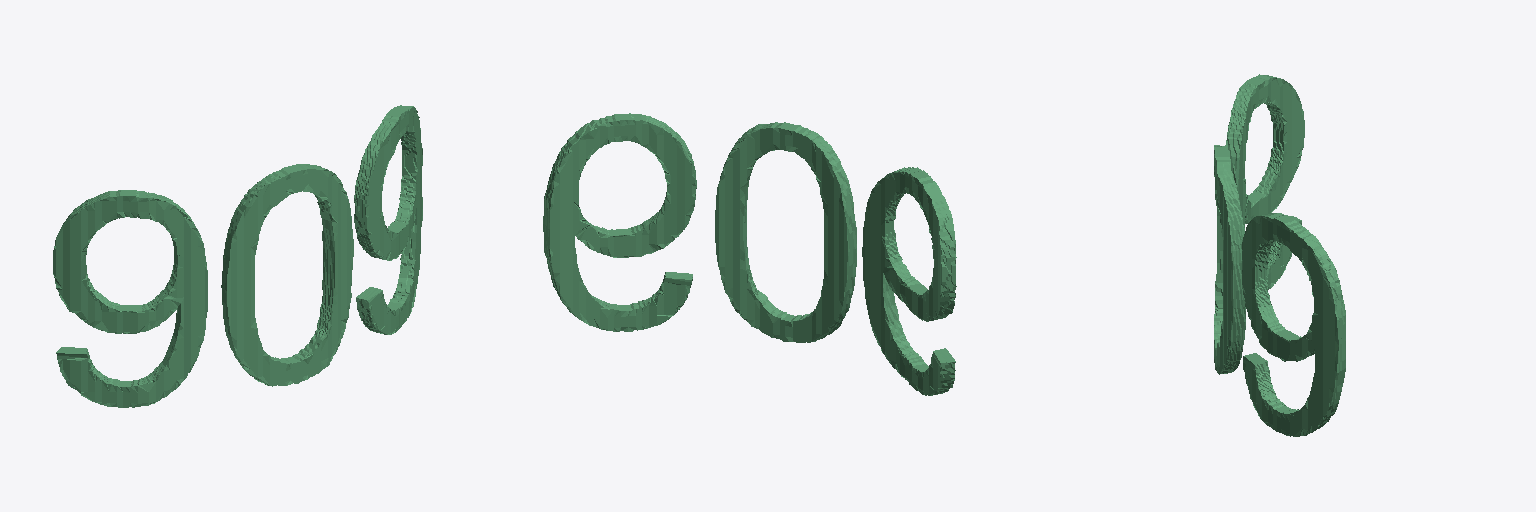
The model's file is port_9.obj.
3 views of the same model, side by side, from view 1: azimuth 30°, elevation 25°; view 2: azimuth 150°, elevation 25°; view 3: azimuth 270°, elevation 25° (orthographic).
Visible parts, largest first — view 1: Text01; view 2: Text01; view 3: Text01.
Boxes of the visible parts, x1=… form: Text01: x1=53, y1=105, x2=422, y2=407; Text01: x1=543, y1=113, x2=956, y2=395; Text01: x1=1214, y1=74, x2=1345, y2=436.
Size of the model in its own units: 3.06 by 1.59 by 0.9.